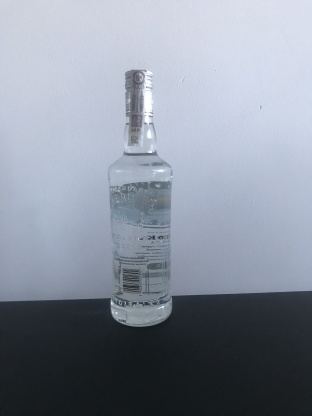nakretka: (122, 65, 155, 120)
